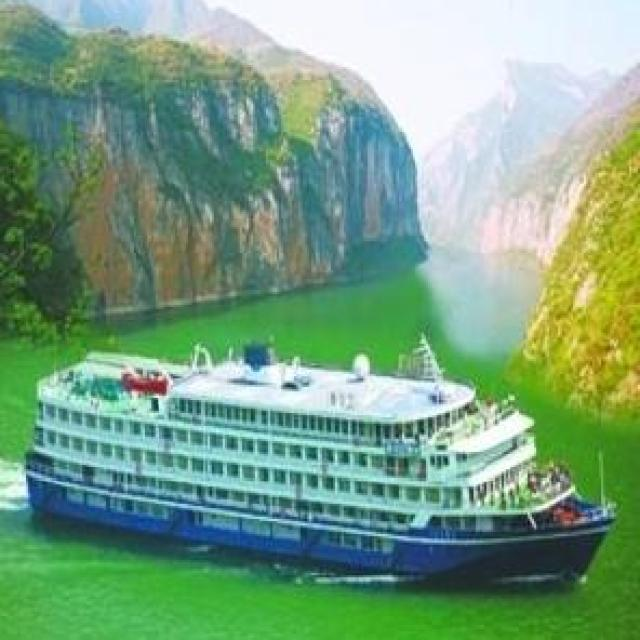passenger ship: (25, 340, 615, 580)
